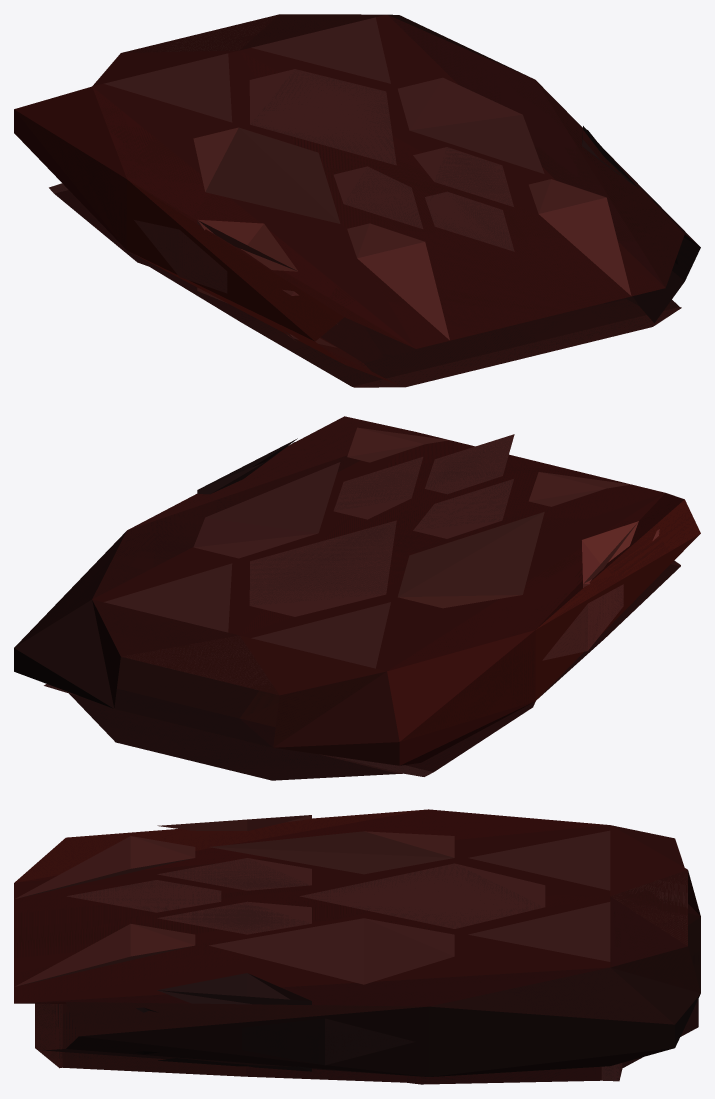
File: red-dhide-body.obj
3 renders of one model, top to bottom at view 1: azimuth 30°, elevation 25°; view 2: azimuth 150°, elevation 25°; view 3: azimuth 270°, elevation 25°, orthographic.
Visible parts, largest first — view 1: Item Red d'hide body 2026-09-24_17-11-42; view 2: Item Red d'hide body 2026-09-24_17-11-42; view 3: Item Red d'hide body 2026-09-24_17-11-42.
Boxes of the visible parts, box(x1,y1,x2,y2) form: Item Red d'hide body 2026-09-24_17-11-42: box(14, 14, 700, 387); Item Red d'hide body 2026-09-24_17-11-42: box(14, 416, 700, 780); Item Red d'hide body 2026-09-24_17-11-42: box(14, 809, 700, 1084).
Bounding box in the file's own units: 36 × 8 × 53.
